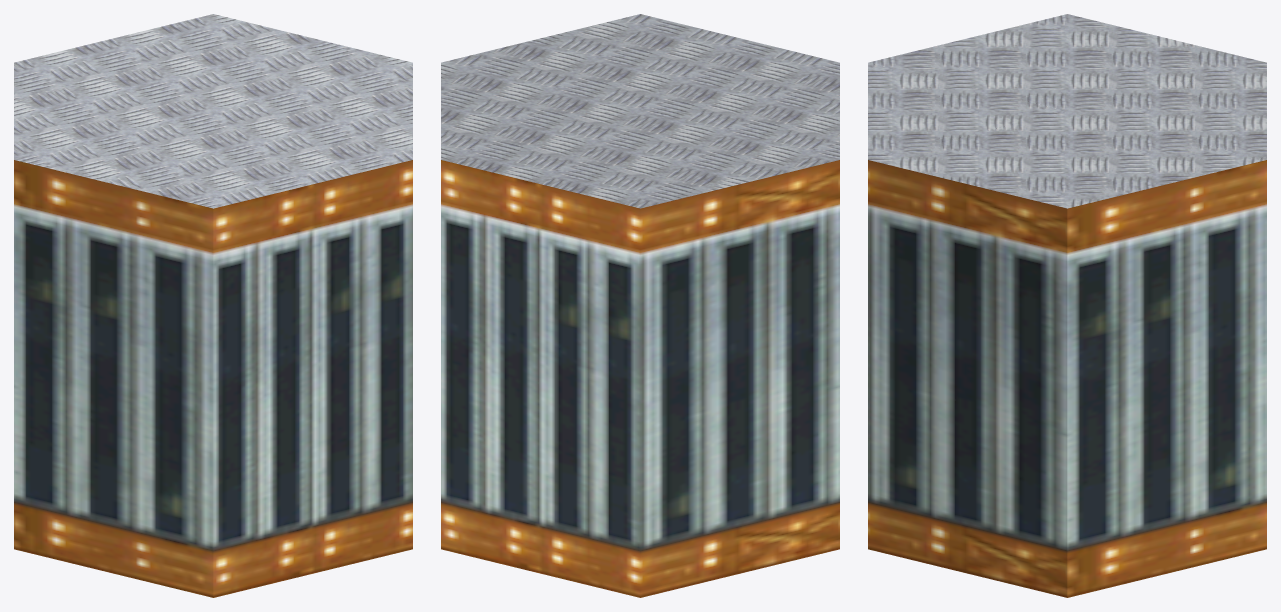
The picture shows the model from 3 angles, left to right: view 1: azimuth 30°, elevation 25°; view 2: azimuth 150°, elevation 25°; view 3: azimuth 270°, elevation 25°; orthographic projection.
Visible parts, largest first — view 1: Cylinder16; view 2: Cylinder16; view 3: Cylinder16.
Part boxes in pixels (x1,y1,x2,y2): Cylinder16: [14, 14, 412, 597]; Cylinder16: [441, 14, 839, 597]; Cylinder16: [868, 14, 1266, 597].
Bounding box in the file's own units: 705 × 658 × 611.
2 materials, 2 textured.
